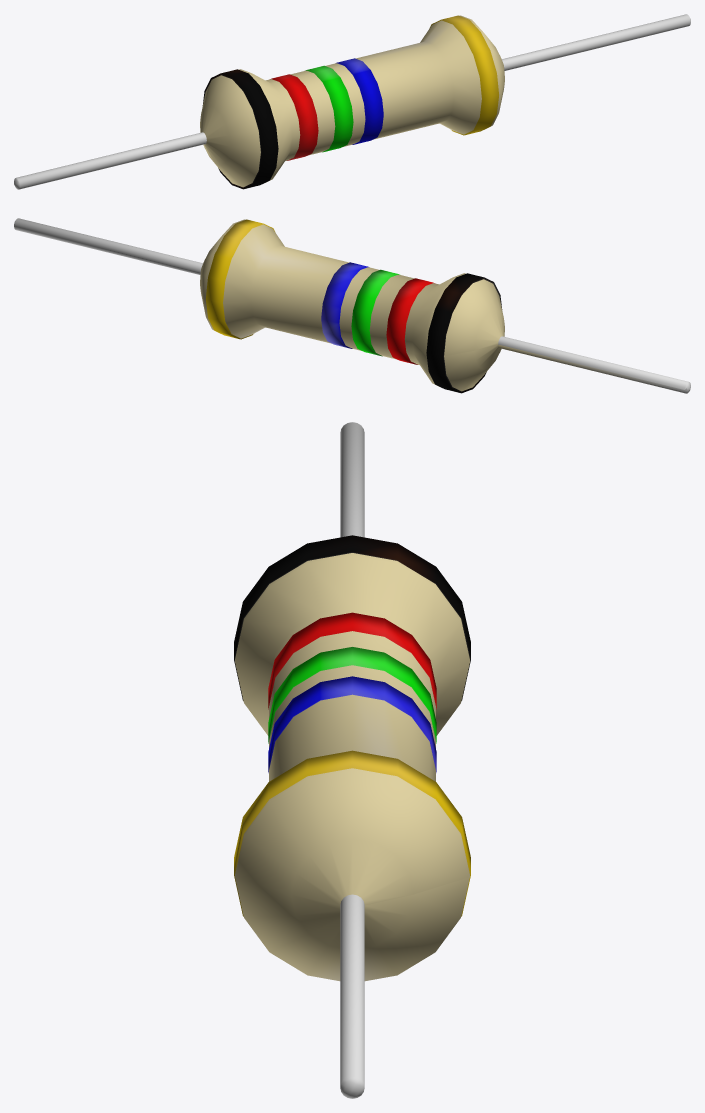
Rendered from resistorMain.glb.
3 views of the same model, one above another, from view 1: azimuth 30°, elevation 25°; view 2: azimuth 150°, elevation 25°; view 3: azimuth 270°, elevation 25° (orthographic). The views are drawn at different scales.
Parts seen in each view (by area): view 1: resistor; view 2: resistor; view 3: resistor.
Boxes of the visible parts, x1,y1,x2,y2 form: resistor: [14, 14, 690, 189]; resistor: [14, 218, 690, 393]; resistor: [234, 422, 470, 1098].
Bounding box in the file's own units: 2.17 × 0.3296 × 0.3296.
